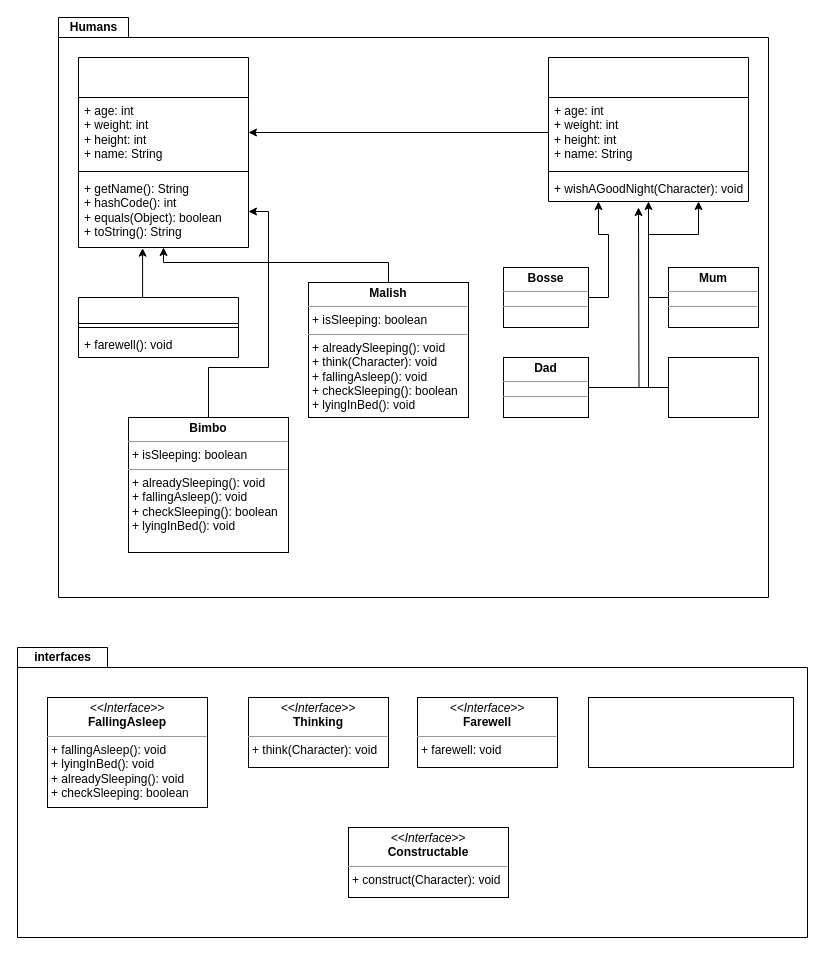
This 825x955 diagram has some shape labels left out. Each missing label, with the box of its shape:
<<Abstract class>> Character: (78, 56, 248, 248)
<<Abstract class>> Relative: (548, 56, 748, 202)
<<Interface>> WishAGoodNight + wishAGoodNight(Character): void: (588, 696, 794, 768)
Betan: (668, 356, 758, 418)
Carlson: (78, 296, 238, 358)
